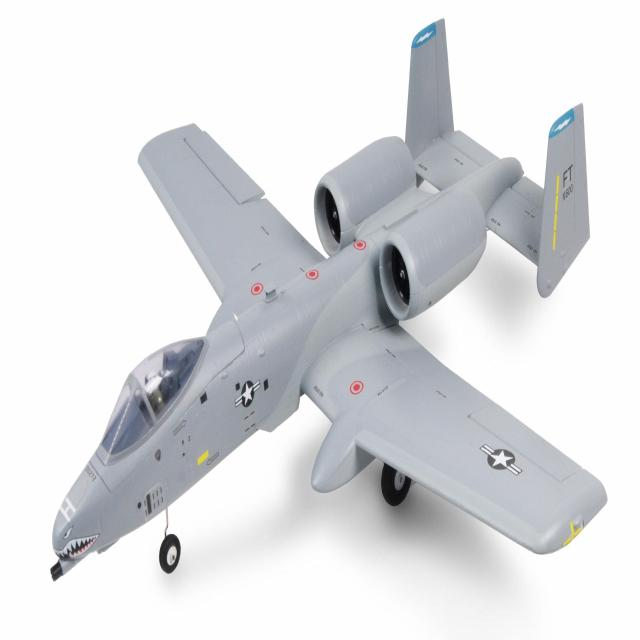A10: (16, 14, 640, 588)
